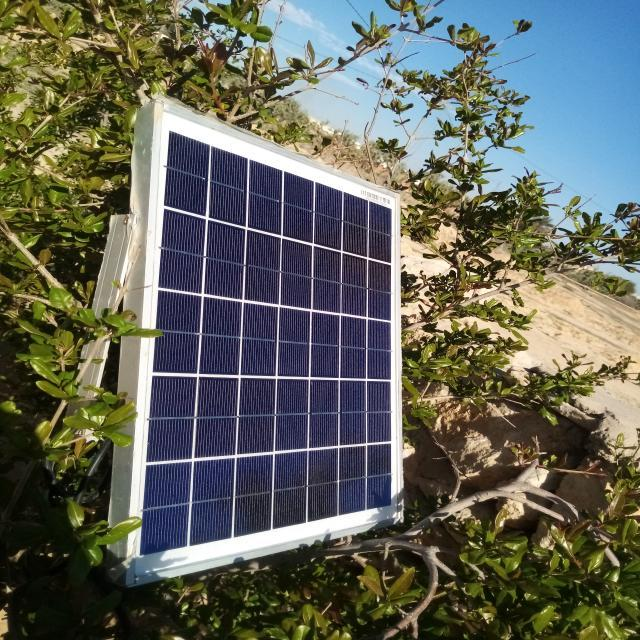no faulty: (131, 103, 406, 585)
